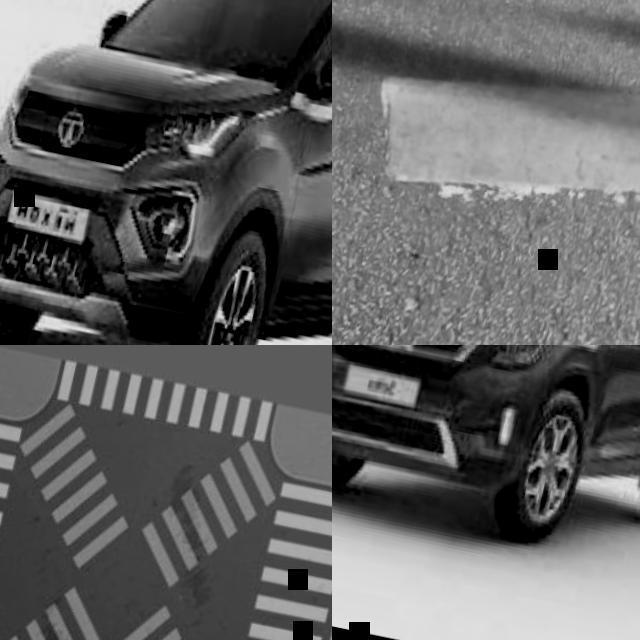car: (2, 0, 325, 322), (333, 344, 639, 543)
